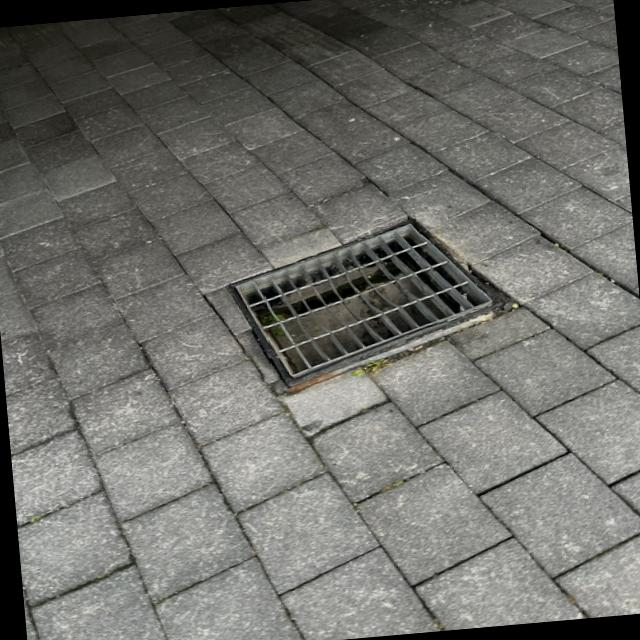drain_area: (234, 224, 493, 374)
drain_full: (235, 224, 493, 375)
